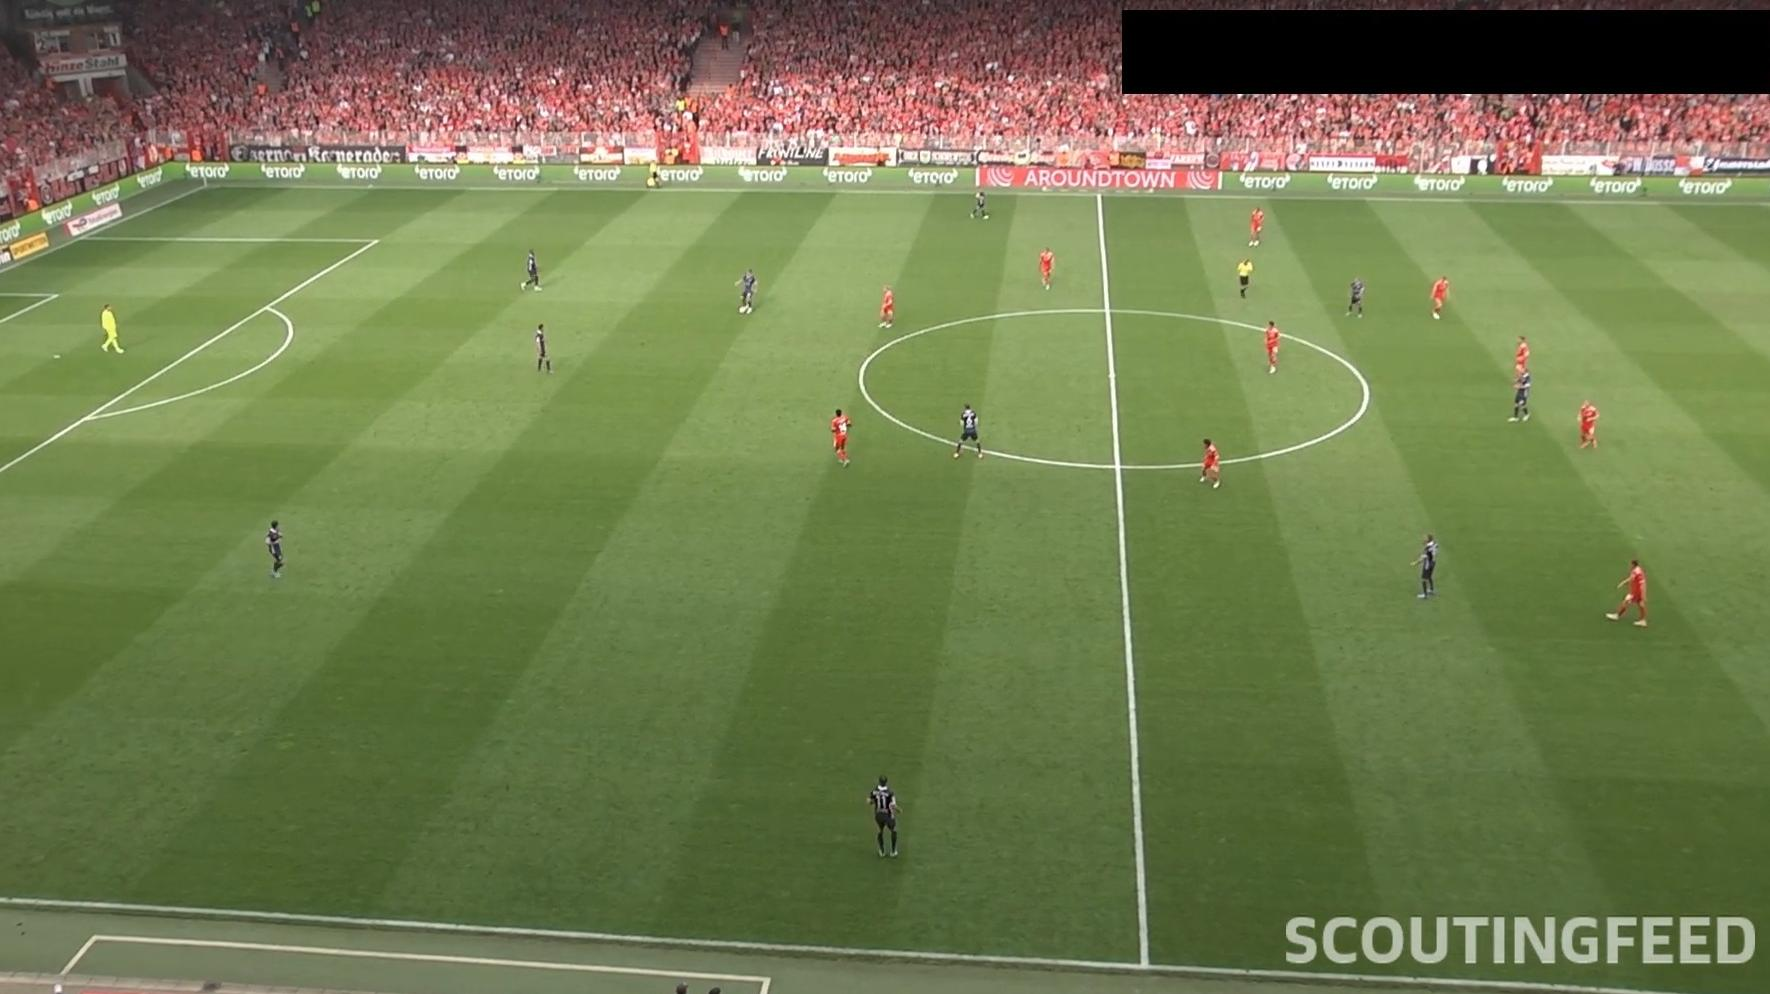ball: (738, 305, 748, 315)
